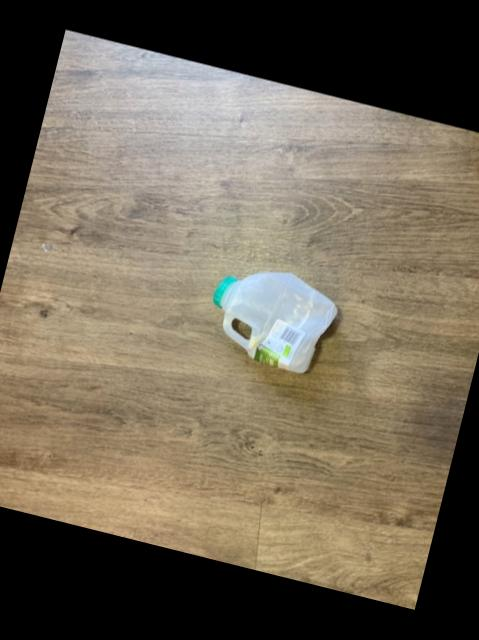plastic: (210, 273, 334, 373)
